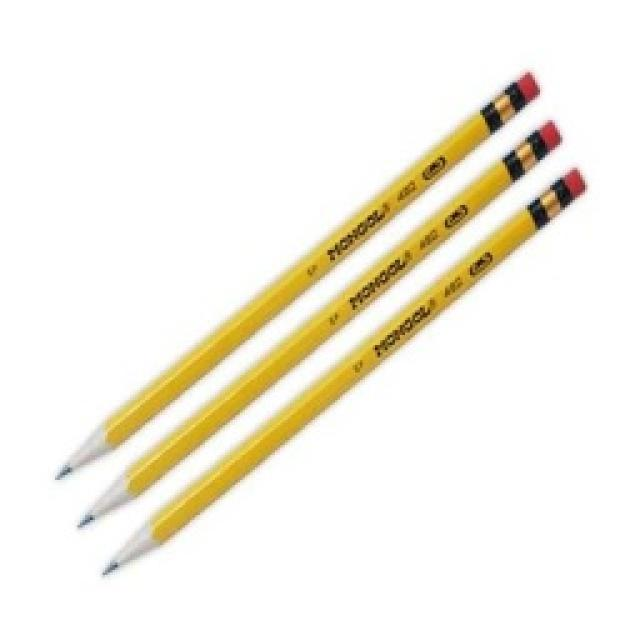pencil: (50, 65, 590, 577)
